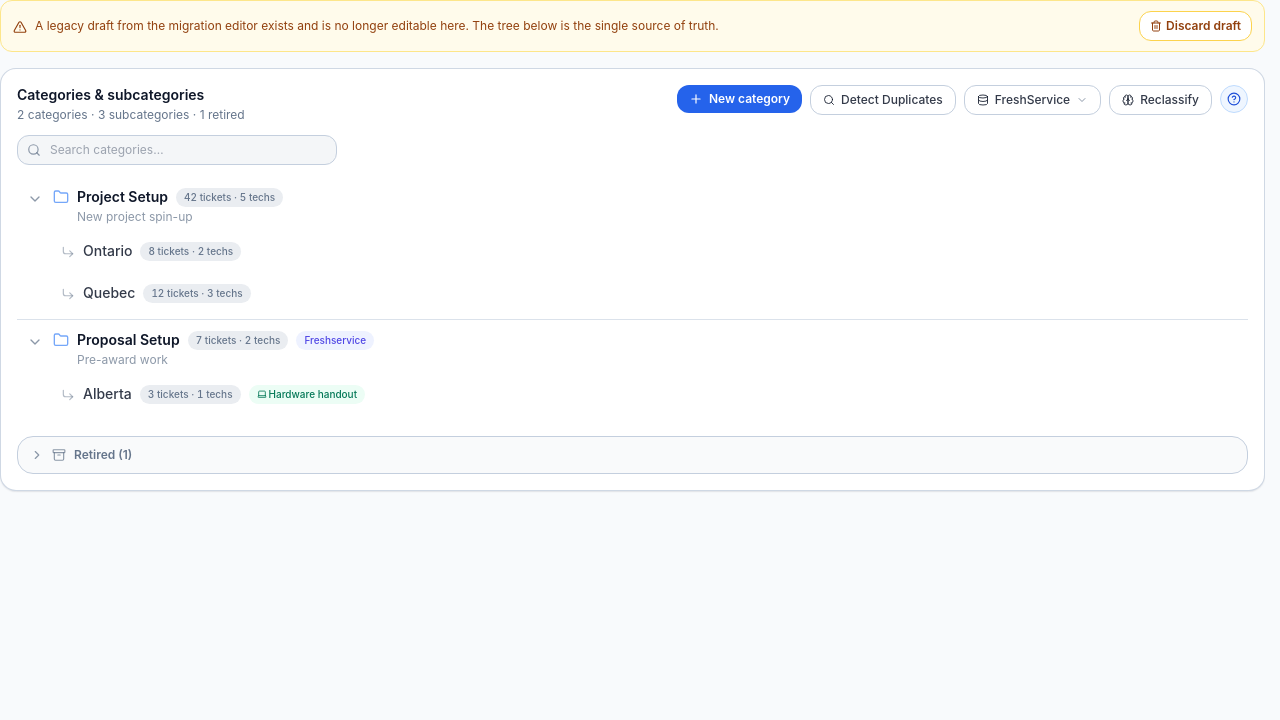
Scenario: CategoriesManagementTab (tree overhaul) › migration banner shows for a leftover draft and Discard draft confirms then deletes it
Expected: the text "Project Setup" is shown, [77,187,168,207]
Expected: the text "A legacy draft from the migration editor exists and is no longer editable here" is shown, [35,18,719,33]
Click the button "Discard draft" at (1196, 26), box [1139,11,1252,41]
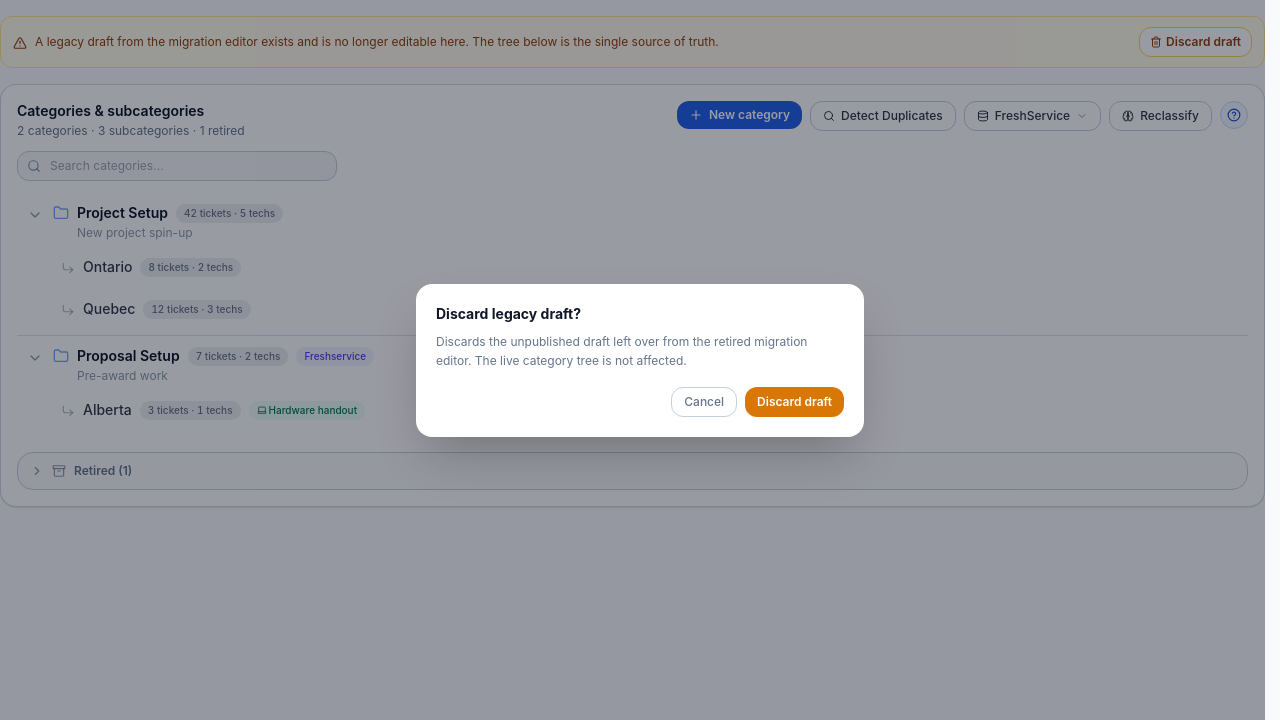
Result: the dialog "Discard legacy draft?" shows "The live category tree is not affected." at [436,334,807,368]
Click the button "Discard draft" at (795, 402), box [745,386,844,416]
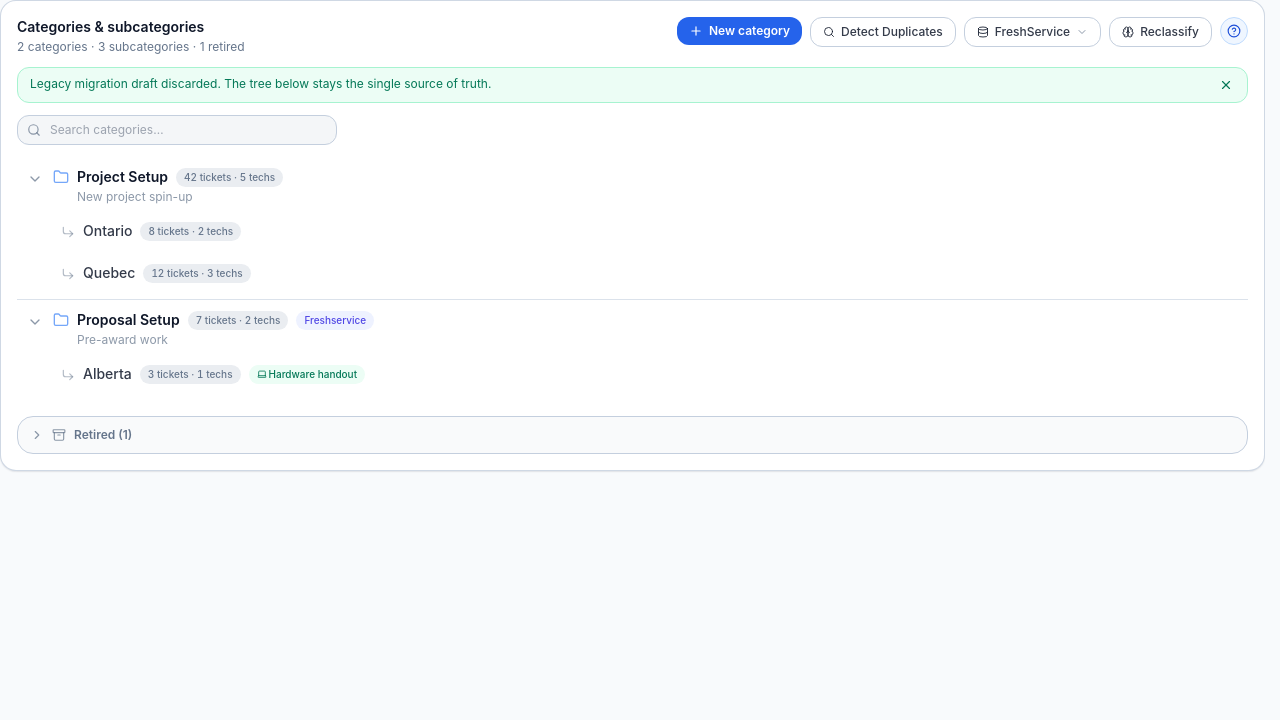
Result: the text "A legacy draft from the migration editor exists" is gone
Result: the text "Legacy migration draft discarded" is shown at [30,76,491,91]
